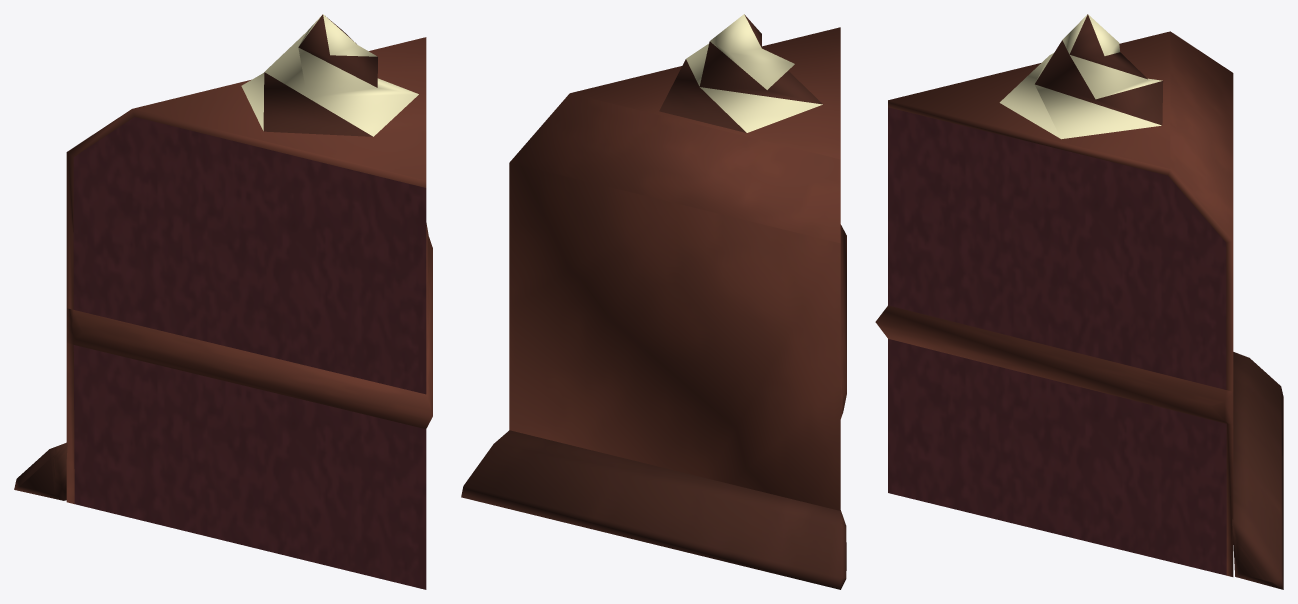
The model's file is Cake_Slice_A_1.FBX.
3 renders of one model, left to right at view 1: azimuth 30°, elevation 25°; view 2: azimuth 150°, elevation 25°; view 3: azimuth 270°, elevation 25°, orthographic. The views are drawn at different scales.
Parts seen in each view (by area): view 1: Cake_03; view 2: Cake_03; view 3: Cake_03.
Part boxes in pixels (<box>): Cake_03: <box>14,14,432,589</box>; Cake_03: <box>461,14,846,589</box>; Cake_03: <box>875,14,1283,589</box>.
Size of the model in its own units: 58.57 by 67.89 by 52.35.
